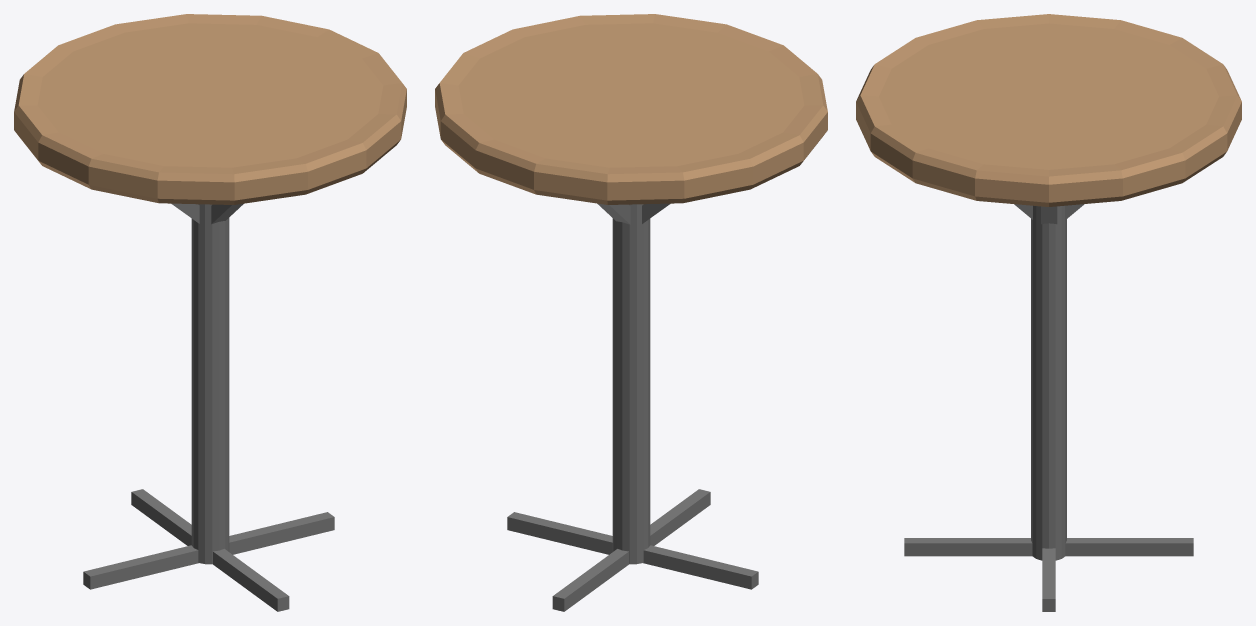
Rendered from ModernTable.fbx.
The picture shows the model from 3 angles, left to right: view 1: azimuth 30°, elevation 25°; view 2: azimuth 150°, elevation 25°; view 3: azimuth 270°, elevation 25°; orthographic projection.
Visible parts, largest first — view 1: ModernTable; view 2: ModernTable; view 3: ModernTable.
Boxes of the visible parts, x1,y1,x2,y2 form: ModernTable: [14, 14, 406, 611]; ModernTable: [435, 14, 827, 611]; ModernTable: [856, 14, 1241, 611].
Bounding box in the file's own units: 153 × 196 × 150.
